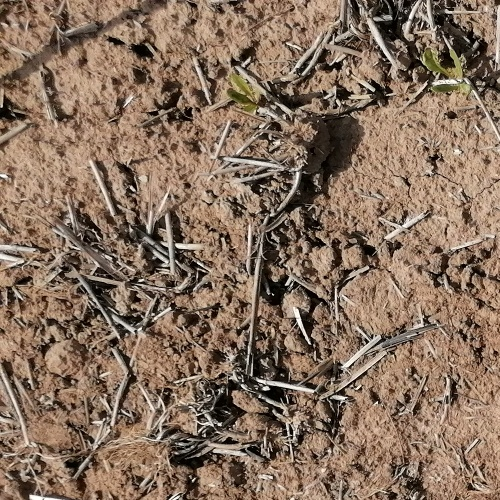beet: (419, 36, 474, 99), (228, 68, 261, 114)
